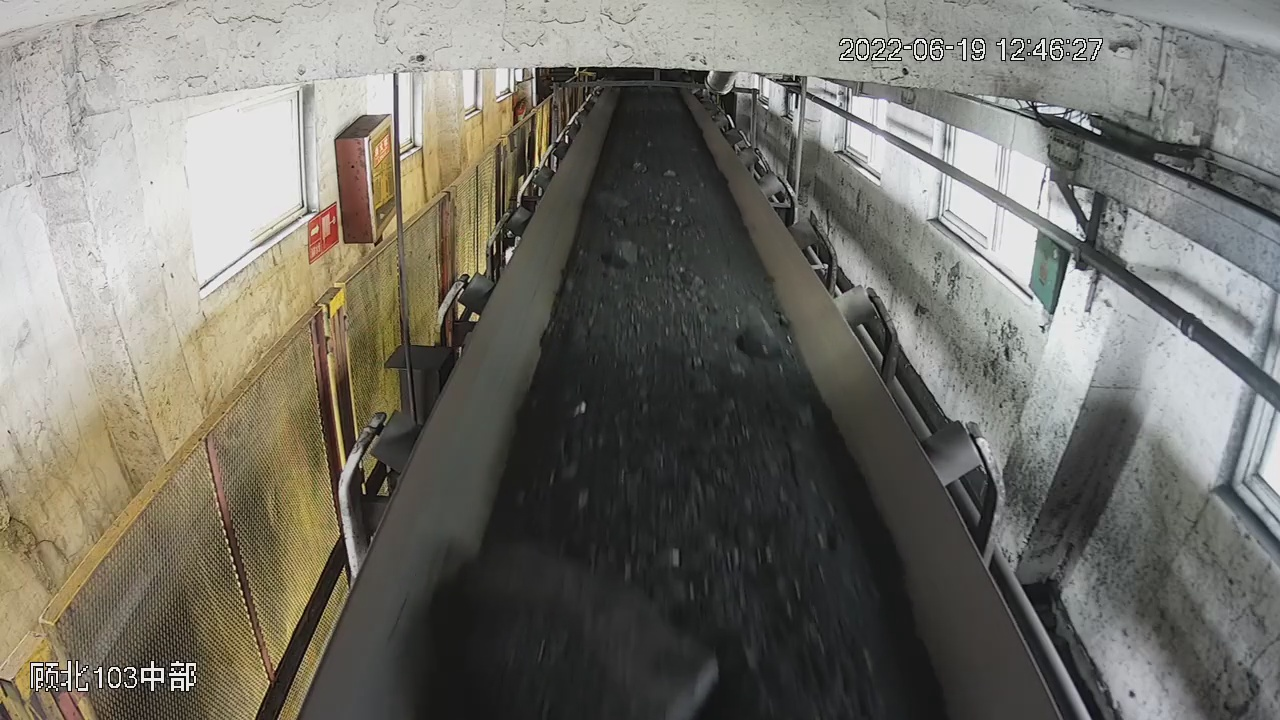gangue: (422, 544, 717, 720), (737, 305, 781, 357), (607, 238, 635, 265), (597, 188, 624, 209)
